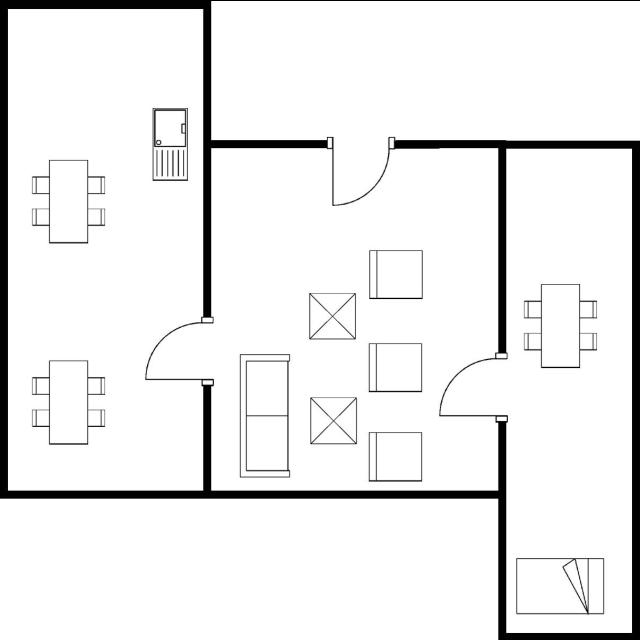coffee_table: (305, 393, 361, 448), (304, 288, 358, 342)
dining_table: (26, 152, 108, 249), (28, 356, 110, 448), (522, 278, 602, 372)
large_sofa: (234, 348, 295, 483)
sink: (148, 105, 192, 185)
small_sofa: (511, 552, 608, 618), (364, 244, 426, 304), (365, 338, 427, 396), (362, 428, 425, 484)
